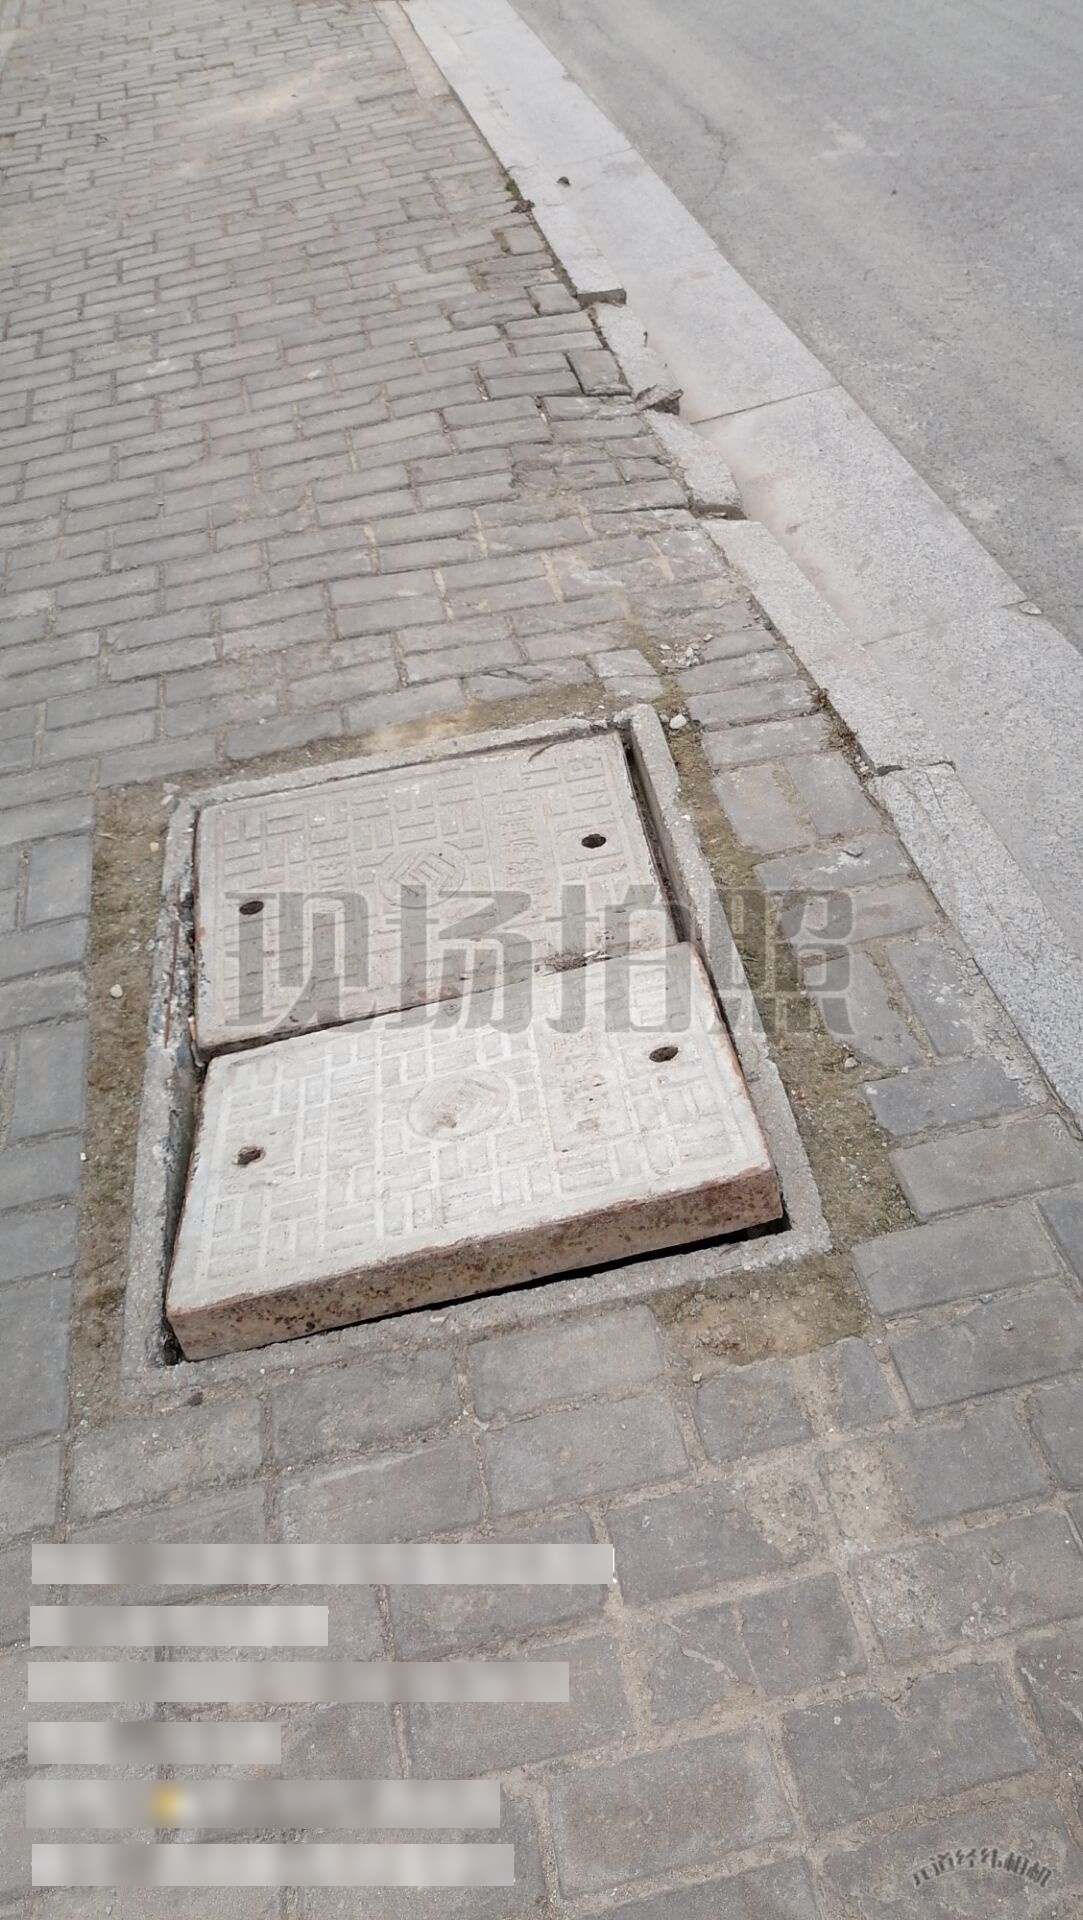well: (121, 688, 846, 1383)
